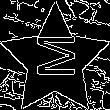M_W: (31, 38, 79, 84)
